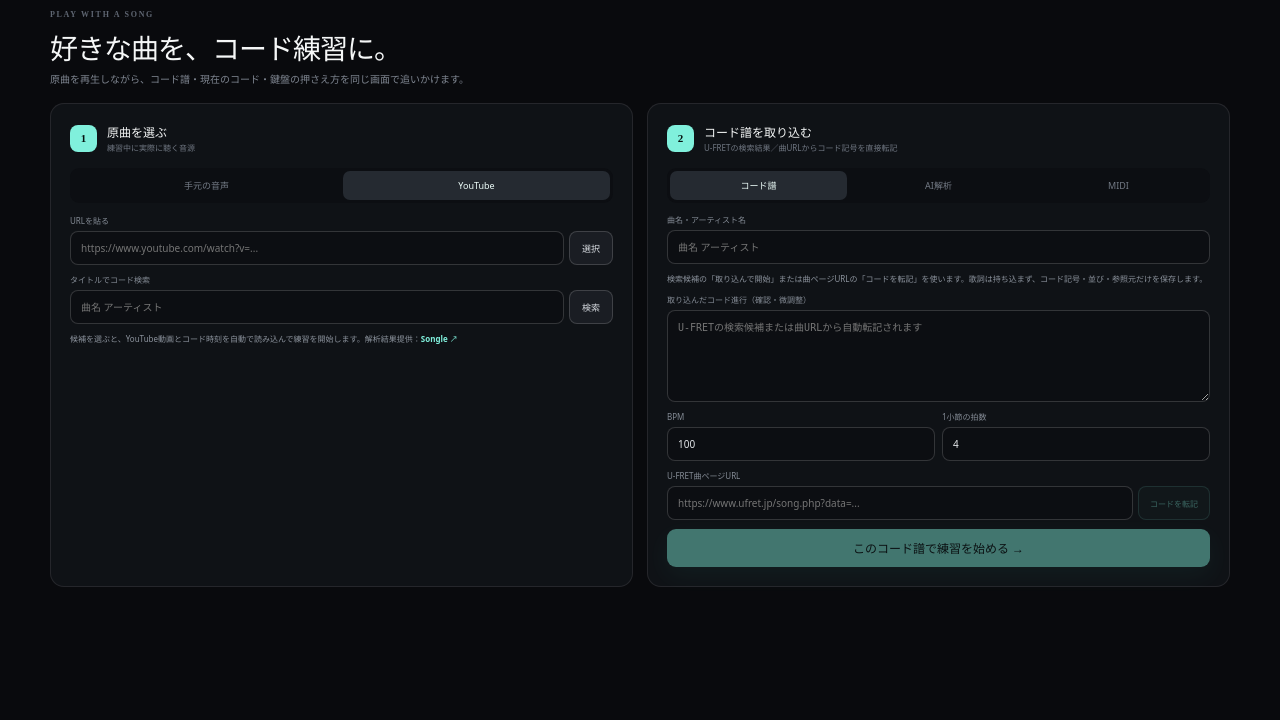
Test: 曲で弾くセットアップ › タイトル検索の候補を選ぶだけでコードを取得して練習を開始する
The image size is (1280, 720).
Type "Automatic Song" into the field labelled "タイトルでコード検索" at [317, 307], box [70,290,564,324]
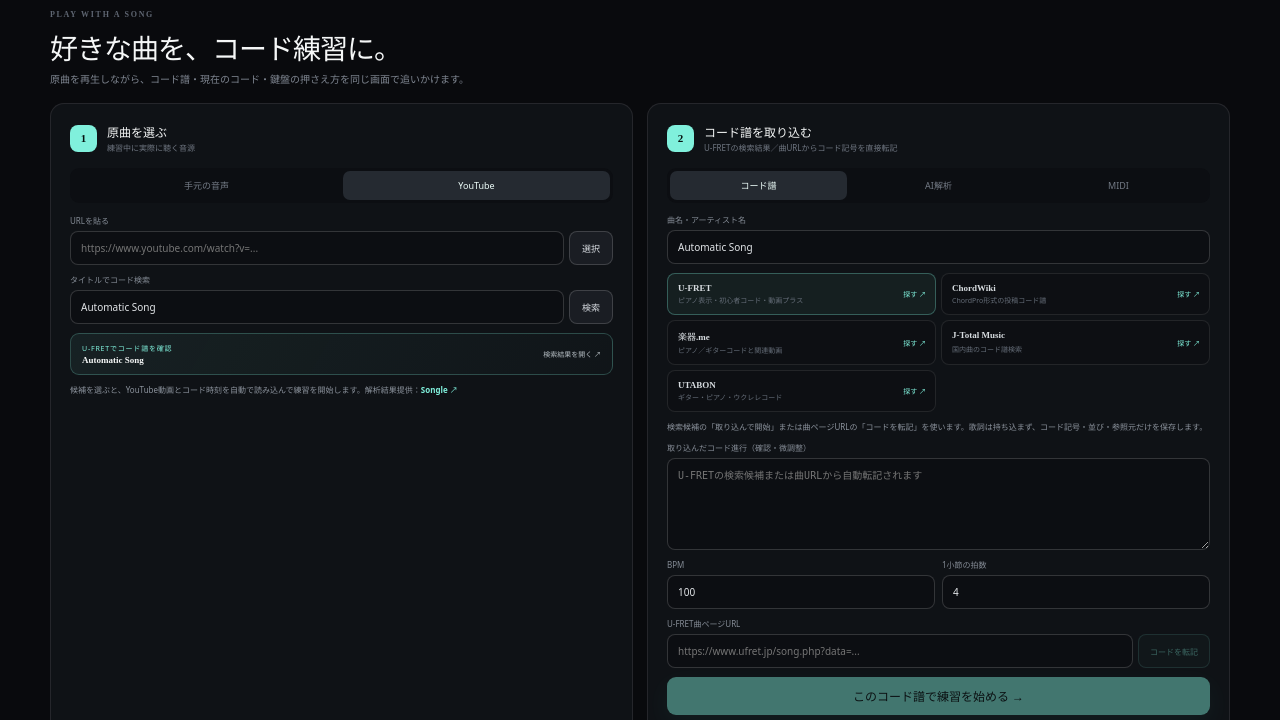
Click the button "検索" at [591, 307], box [569,290,613,324]
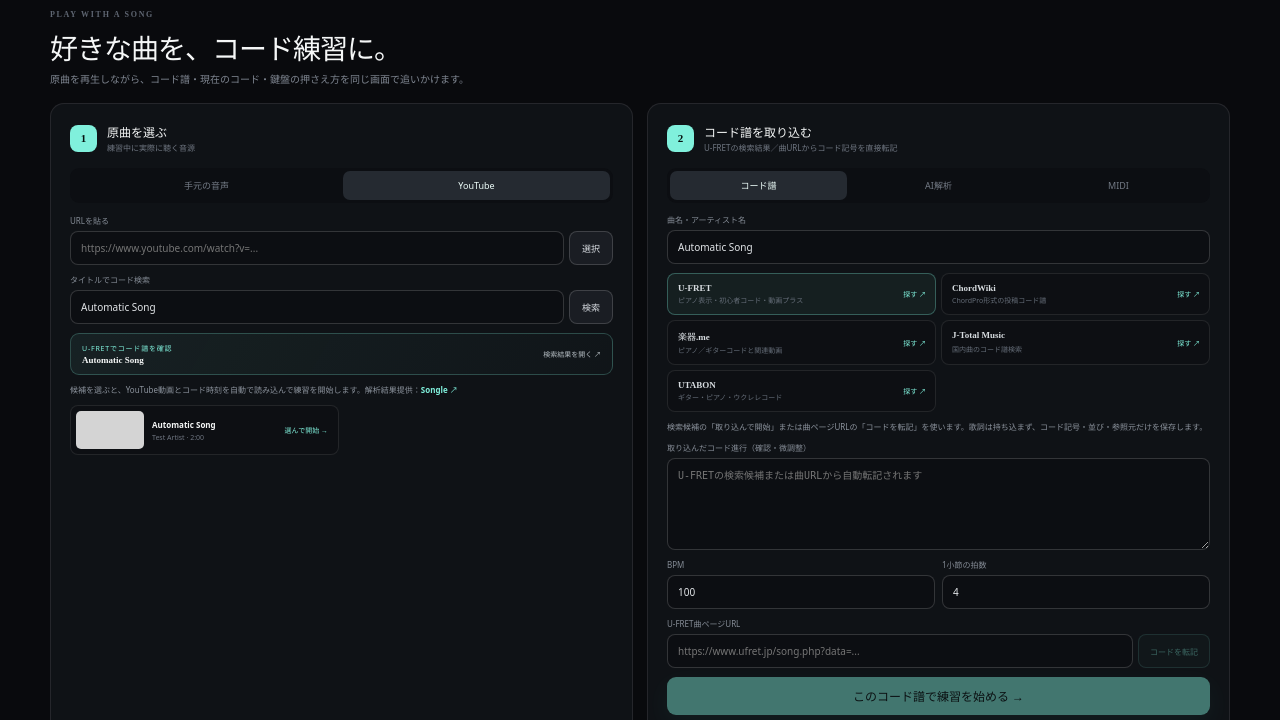
Click the button "Automatic Song Test Artist · 2:00 選んで開始 →" at [204, 430], box [70,405,339,455]
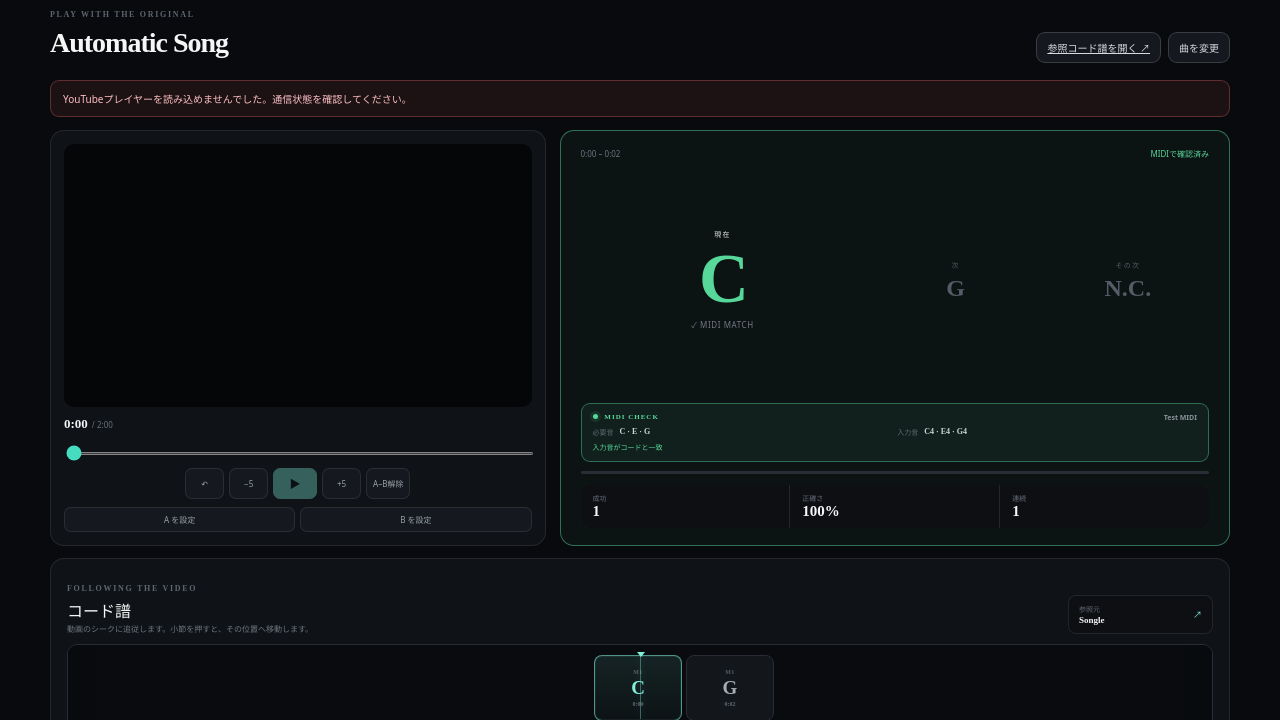
expect the heading "Automatic Song" is shown: met, box [50,27,228,59]
expect the element named "曲のコード譜" shows "C": met, box [594,655,682,719]
expect the element named "曲のコード譜" shows "G": met, box [686,655,774,719]
